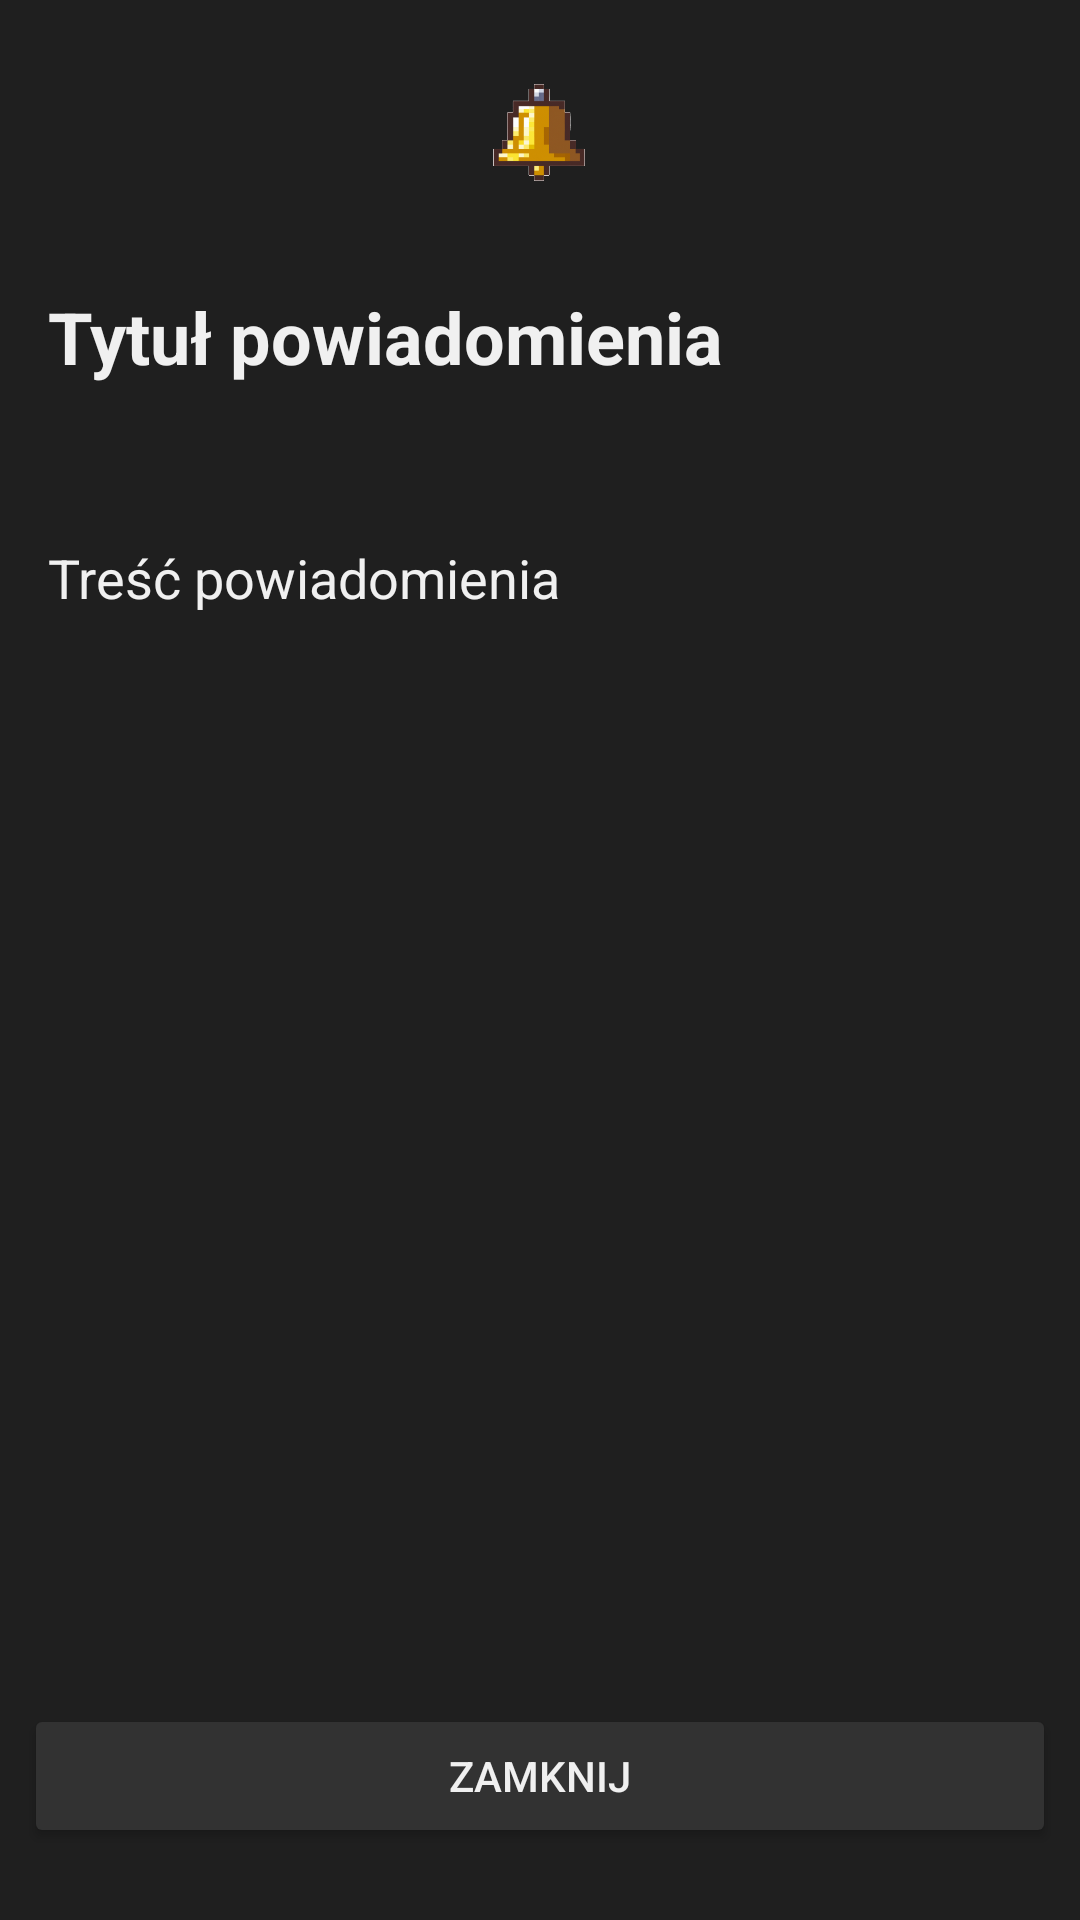

Icons on this 1080 x 1920 Android screen, each with the point to tap as (x=x, y=y):
Notifications Icon 2: (x=539, y=132)
